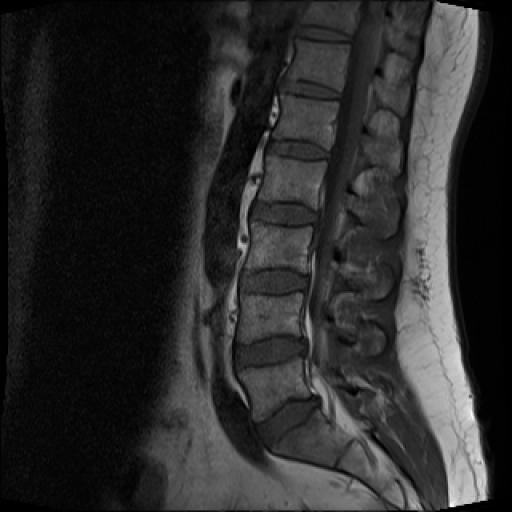L1: (272, 93, 339, 151)
L2: (258, 155, 327, 211)
L3: (245, 221, 313, 274)
L4: (236, 292, 303, 344)
L5: (238, 358, 311, 422)
S1: (270, 408, 353, 468)
